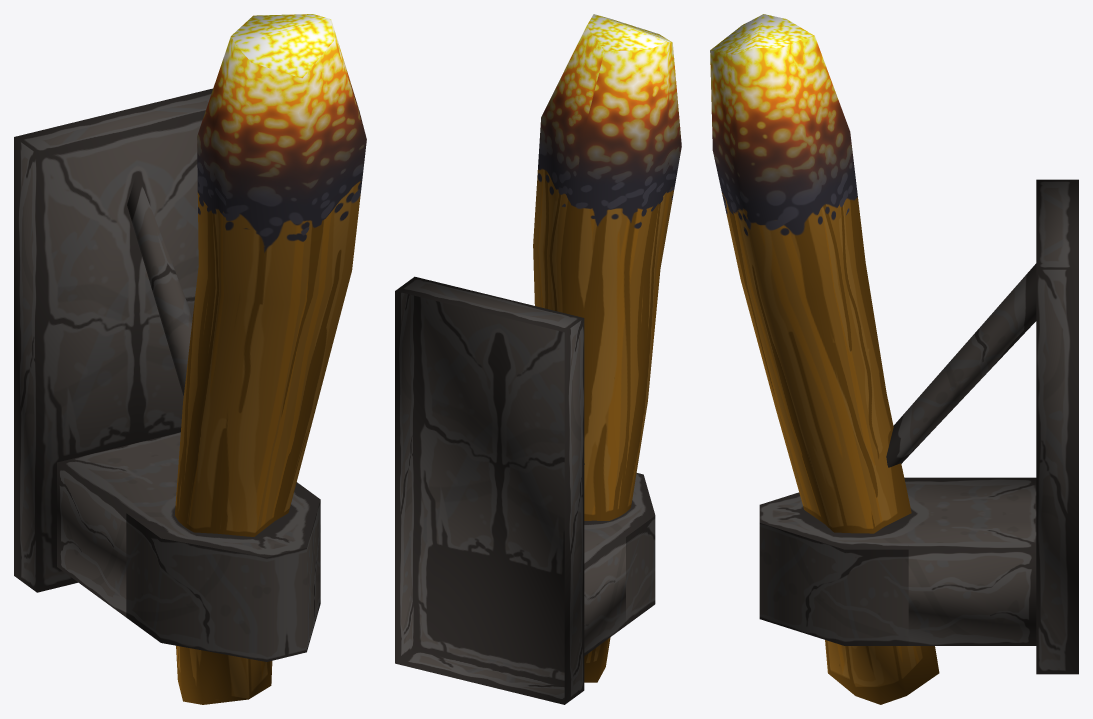
Rendered from torch.fbx.
3 renders of one model, left to right at view 1: azimuth 30°, elevation 25°; view 2: azimuth 150°, elevation 25°; view 3: azimuth 270°, elevation 25°, orthographic. The views are drawn at different scales.
Visible parts, largest first — view 1: torch.002; view 2: torch.002; view 3: torch.002.
Boxes of the visible parts, x1,y1,x2,y2 form: torch.002: (14,14,366,704); torch.002: (395,14,681,704); torch.002: (710,14,1078,704).
Size of the model in its own units: 1 by 3.43 by 1.73.
